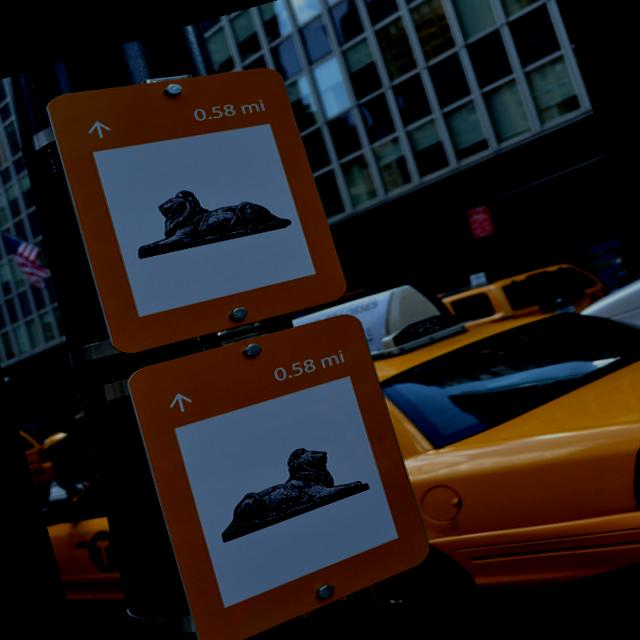Vehicle: (26, 278, 640, 640), (440, 252, 611, 344), (17, 412, 82, 504), (581, 269, 640, 359)
